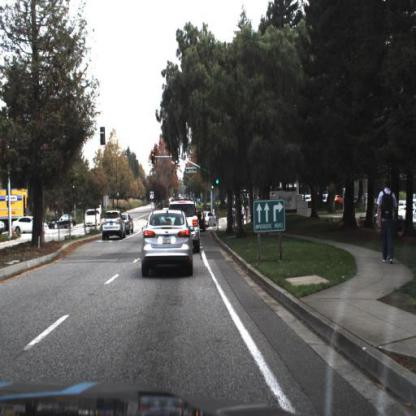car: (145, 210, 197, 277), (186, 200, 201, 255), (102, 211, 125, 243), (102, 210, 124, 240), (13, 218, 52, 234), (51, 212, 78, 233), (49, 213, 76, 231), (85, 206, 103, 231), (85, 205, 103, 228), (206, 210, 220, 229), (123, 213, 135, 233), (200, 212, 208, 233)
pedestrian: (376, 178, 397, 263)
trafficLight: (152, 152, 157, 165)
trafficLight-Green: (215, 173, 220, 191), (176, 151, 181, 167), (211, 182, 216, 192)
trafficLight-RedLeft: (151, 149, 158, 167)
truck: (1, 187, 30, 226)
